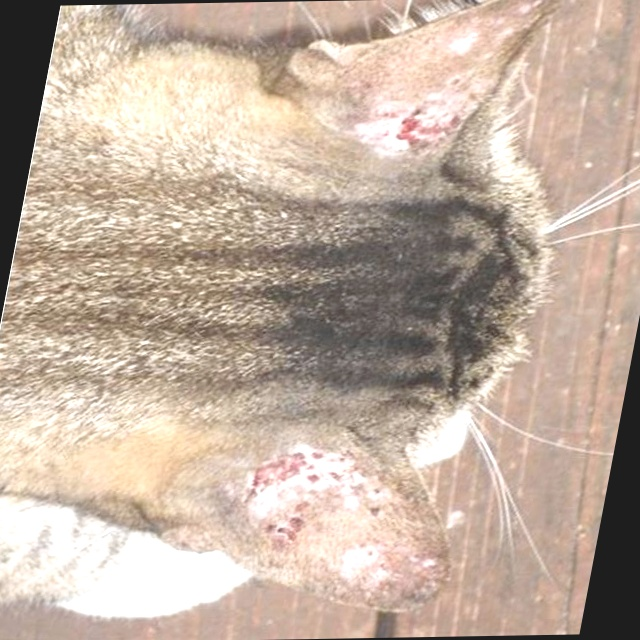ringworm: (230, 431, 420, 554), (364, 37, 510, 161)
